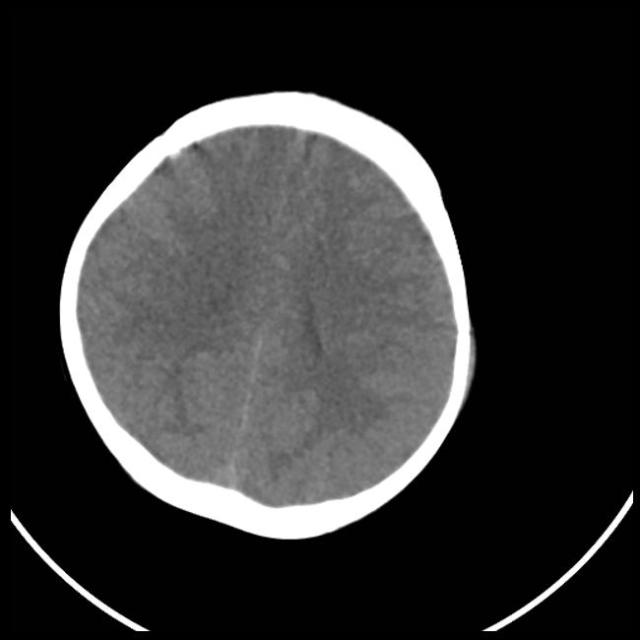lesion: (58, 89, 480, 538)
